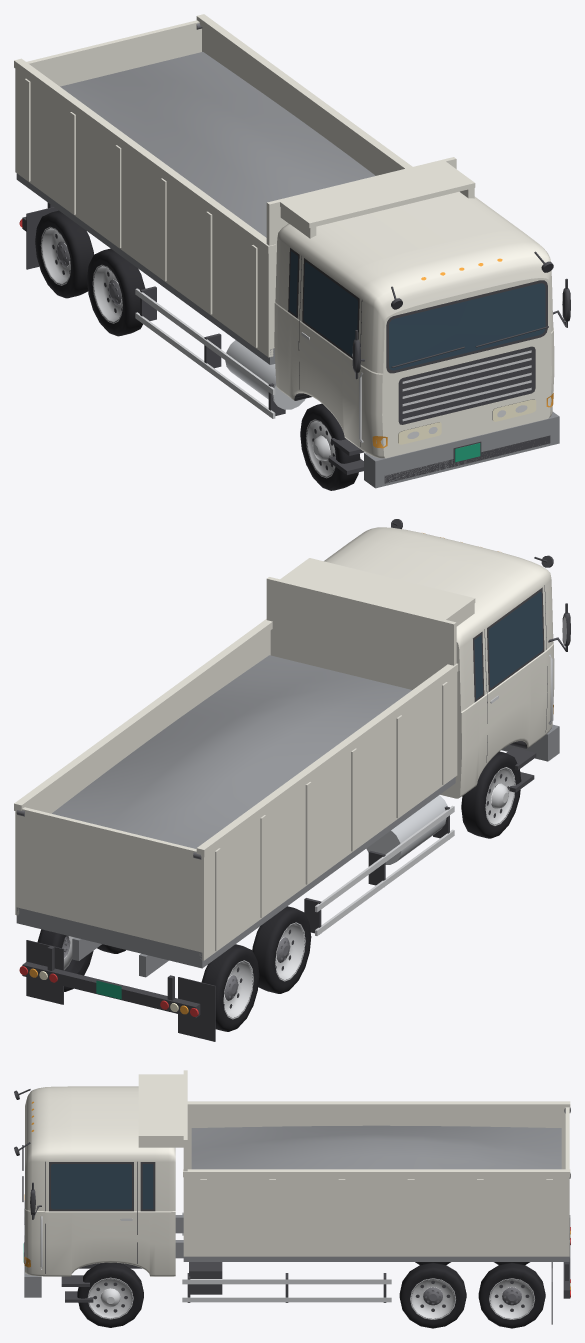
File: 3_close.fbx
3 renders of one model, top to bottom at view 1: azimuth 30°, elevation 25°; view 2: azimuth 150°, elevation 25°; view 3: azimuth 270°, elevation 25°, orthographic. The views are drawn at different scales.
Parts seen in each view (by area): view 1: 11_3_close; view 2: 11_3_close; view 3: 11_3_close.
Part boxes in pixels (x1,y1,x2,y2): 11_3_close: (14, 14, 570, 490); 11_3_close: (14, 519, 570, 1041); 11_3_close: (14, 1070, 570, 1328).
Bounding box in the file's own units: 2.84 × 3.14 × 8.33.
